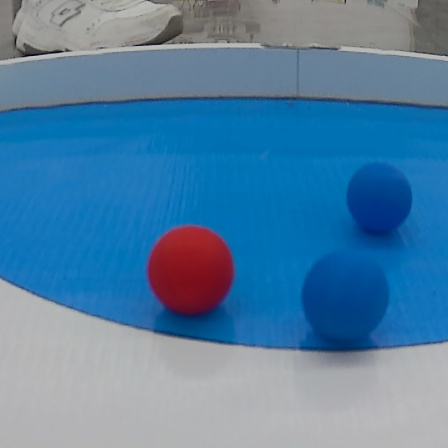blue: (300, 253, 388, 346), (352, 158, 417, 231)
blue_base: (0, 90, 448, 362)
red: (143, 226, 236, 318)
